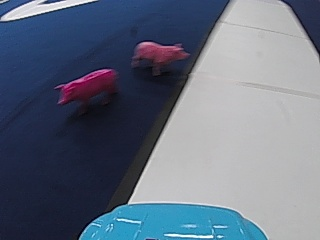pig: (51, 63, 120, 111), (131, 36, 187, 76)
